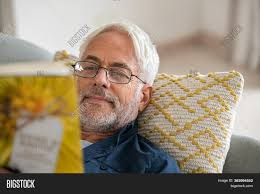Glasses: (66, 54, 143, 88)
